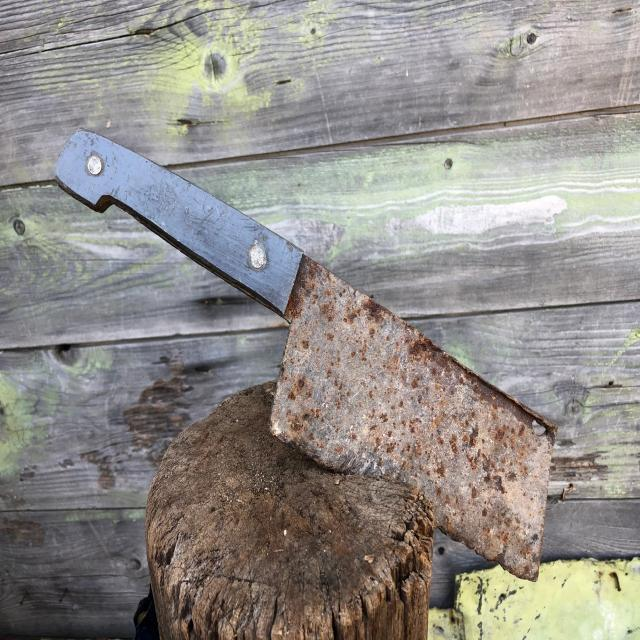cleaver: (59, 130, 544, 588)
